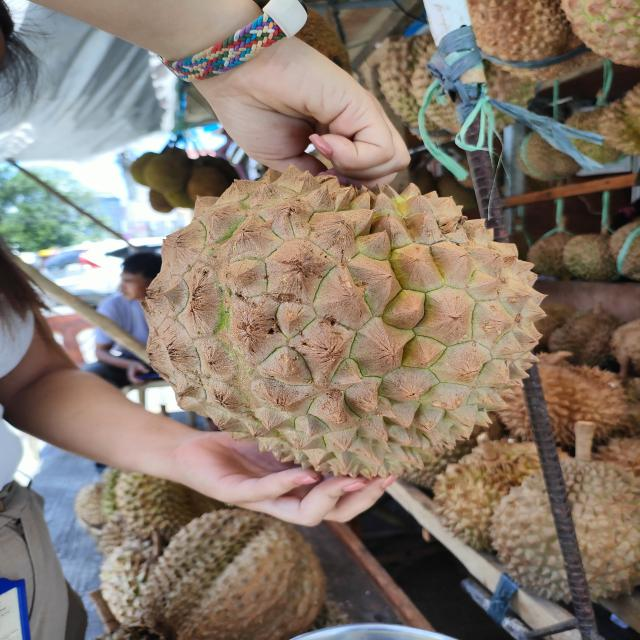mature: (140, 165, 548, 474)
